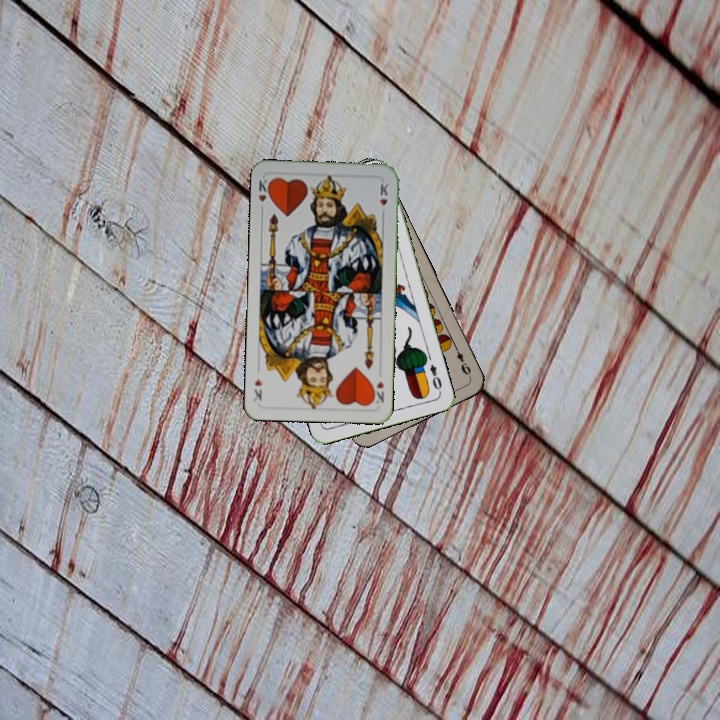E9: (450, 341, 473, 380)
EO: (426, 360, 444, 395)
HK: (254, 175, 274, 215), (368, 377, 387, 406)
